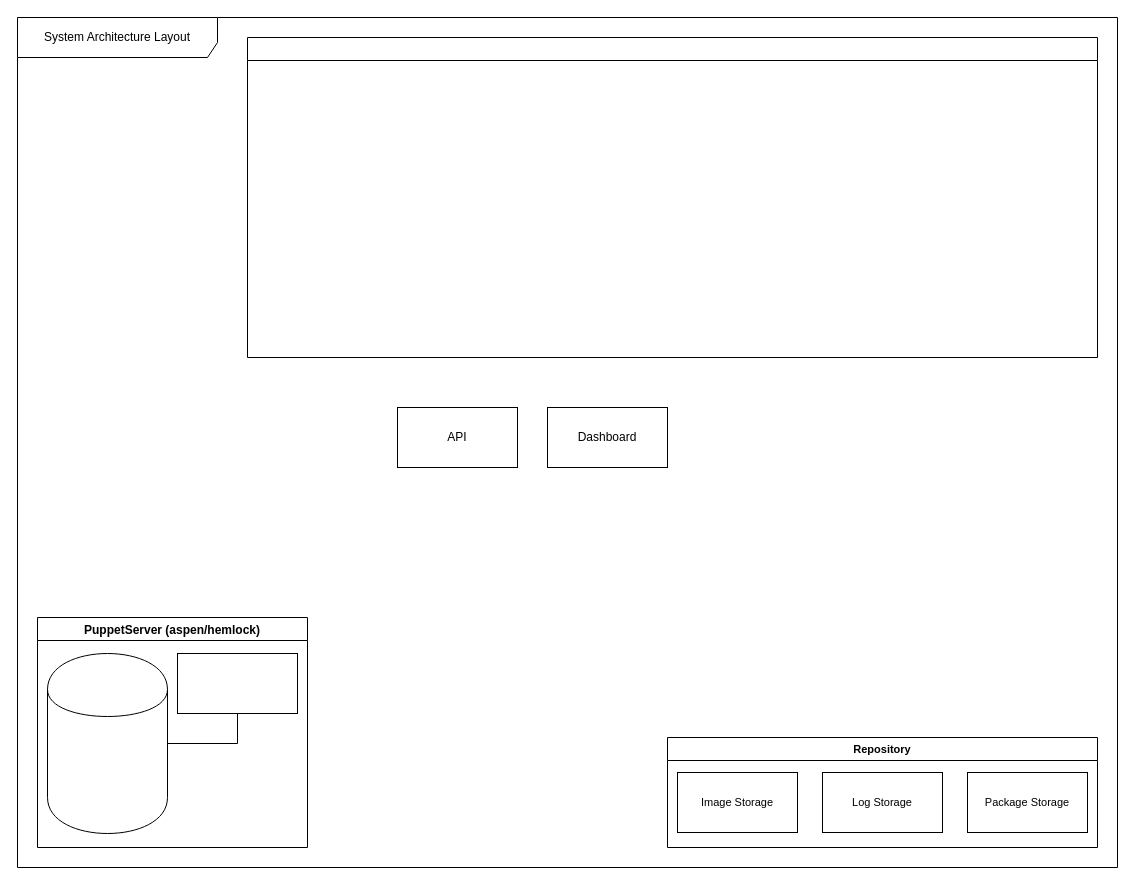
The diagram is 1135 pixels wide and 885 high, and some of its shapes have lost their labels. The centre of each missing label's shape, as x and y in pixels:
"Clonix Management (unnamed)" goes at point (672, 197).
"OpenVOX" goes at point (237, 683).
"OpenVOX DB" goes at point (107, 743).
